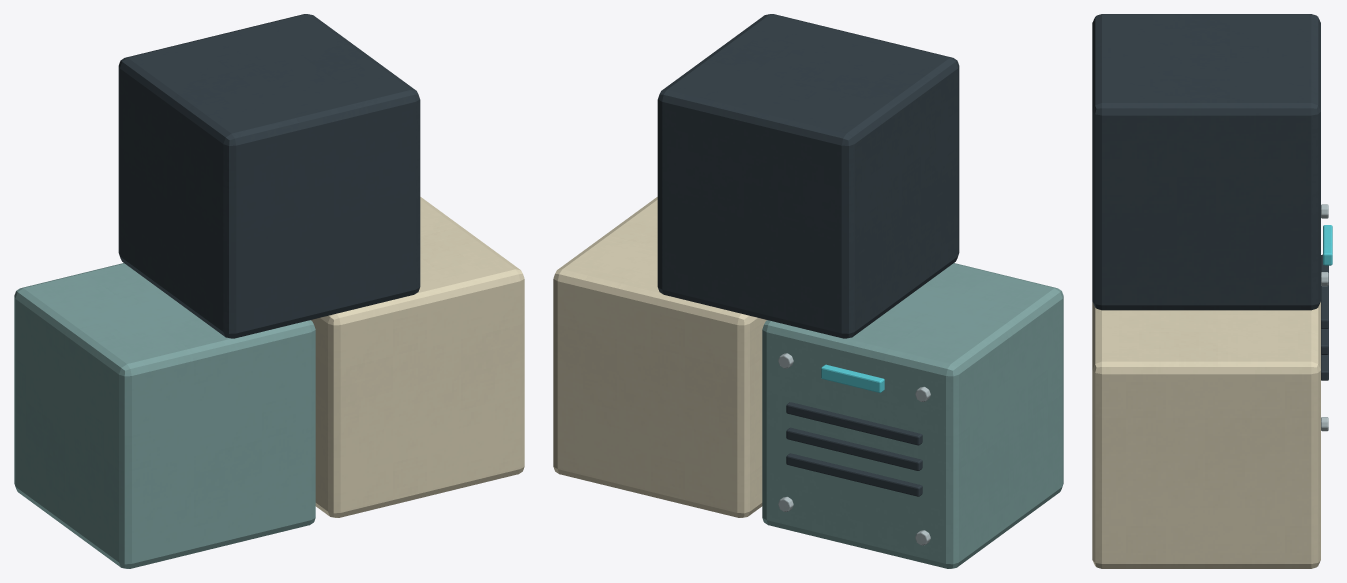
File: cargo_stack.glb
3 renders of one model, left to right at view 1: azimuth 30°, elevation 25°; view 2: azimuth 150°, elevation 25°; view 3: azimuth 270°, elevation 25°, orthographic.
Visible parts, largest first — view 1: Root; view 2: Root; view 3: Root.
Part boxes in pixels (<box>): Root: <box>14,14,524,568</box>; Root: <box>553,14,1063,568</box>; Root: <box>1092,14,1332,568</box>.
Bounding box in the file's own units: 1.24 × 1.2 × 0.6305.
1 material, 1 textured.
